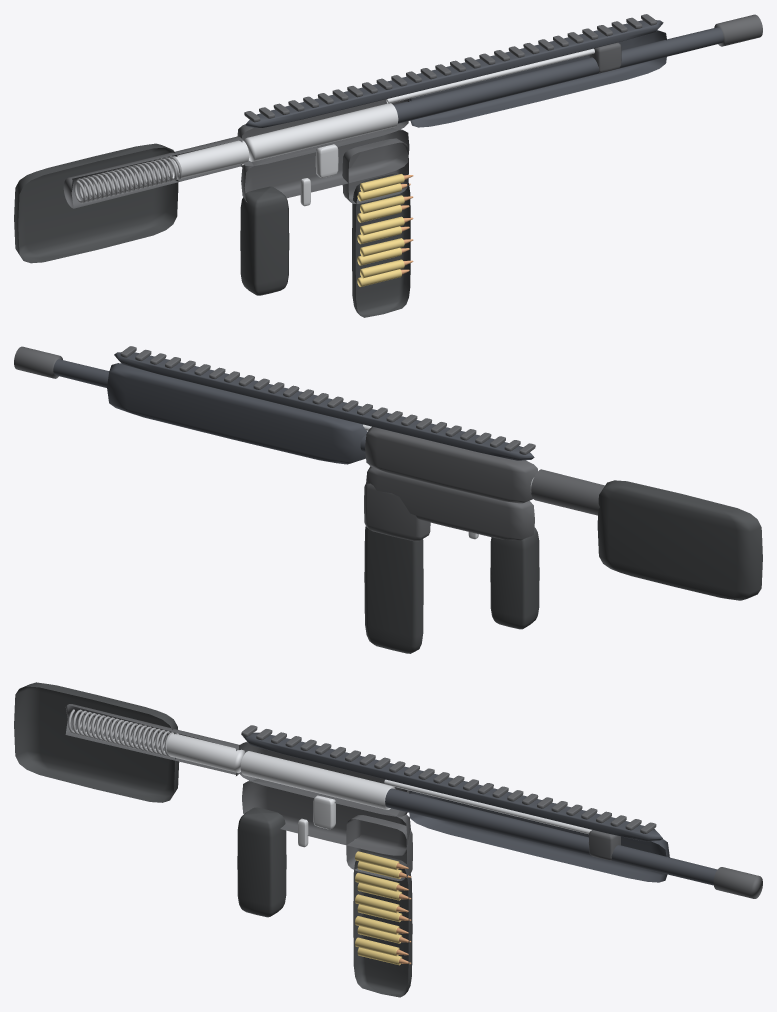
The model's file is uar15-cut.glb.
The picture shows the model from 3 angles, top to bottom: view 1: azimuth 30°, elevation 25°; view 2: azimuth 150°, elevation 25°; view 3: azimuth 330°, elevation 25°; orthographic projection.
Parts seen in each view (by area): view 1: buttstock_body, barrel_368mm, lower_receiver, top_rail, pistol_grip, handguard_mlok, bcg_carrier, stanag_mag, buffer_spring, buffer_tube, buffer_weight, upper_receiver (+5 smaller); view 2: buttstock_body, handguard_mlok, upper_receiver, stanag_mag, lower_receiver, top_rail, pistol_grip, magwell, buffer_tube, barrel_368mm, flash_hider; view 3: buttstock_body, barrel_368mm, top_rail, lower_receiver, pistol_grip, handguard_mlok, stanag_mag, bcg_carrier, buffer_spring, buffer_weight, buffer_tube, magwell (+5 smaller).
Part boxes in pixels (x1,y1,x2,y2): buttstock_body: (14,143,178,263); barrel_368mm: (393,27,723,123); lower_receiver: (241,128,409,202); top_rail: (245,20,663,127); pistol_grip: (240,186,289,295); handguard_mlok: (409,30,666,127); bcg_carrier: (244,103,398,161); stanag_mag: (352,173,410,317); buffer_spring: (74,155,181,203); buffer_tube: (63,136,242,208); buffer_weight: (169,140,249,179); upper_receiver: (237,99,409,165); buttstock_body: (597,480,762,600); handguard_mlok: (107,363,367,464); upper_receiver: (365,426,537,503); stanag_mag: (364,526,423,653); lower_receiver: (366,466,534,540); top_rail: (114,352,534,460); pistol_grip: (490,527,539,629); magwell: (364,483,430,541); buffer_tube: (531,469,604,515); barrel_368mm: (53,359,366,452); flash_hider: (14,346,62,378); buttstock_body: (14,682,179,802); barrel_368mm: (385,788,717,885); top_rail: (242,732,662,841); lower_receiver: (242,778,410,855); pistol_grip: (237,807,286,917); handguard_mlok: (409,790,669,882); stanag_mag: (353,852,412,997); bcg_carrier: (240,751,395,809); buffer_spring: (68,709,178,757); buffer_weight: (165,733,245,772); buffer_tube: (65,704,239,775); magwell: (346,815,412,880).
Size of the model in its own units: 0.83 by 0.2485 by 0.036.
